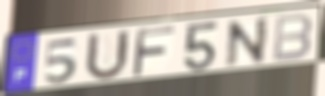5: (182, 21, 220, 73), (43, 36, 80, 85)
B: (271, 12, 315, 64)
F: (130, 25, 178, 80)
N: (224, 15, 271, 69)
U: (83, 29, 132, 83)
